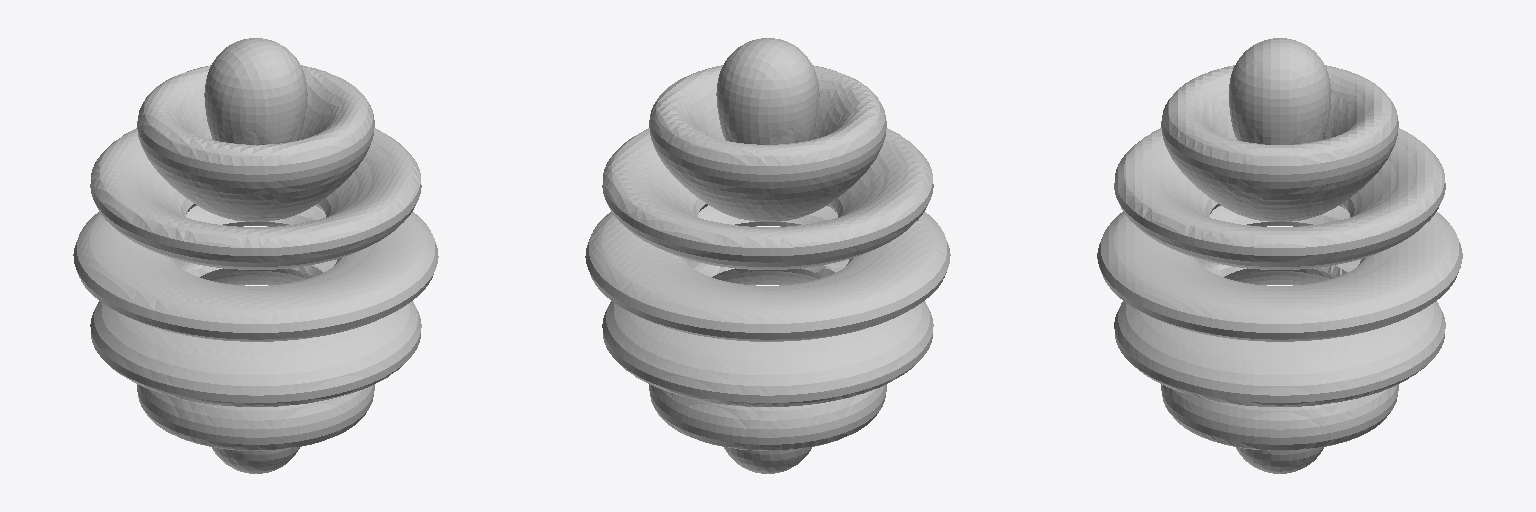
File: orb_n=7_ l=6 _m=0.obj
The picture shows the model from 3 angles: view 1: azimuth 30°, elevation 25°; view 2: azimuth 150°, elevation 25°; view 3: azimuth 270°, elevation 25°; orthographic projection.
Visible parts, largest first — view 1: orb_n=7__l=6__m=0; view 2: orb_n=7__l=6__m=0; view 3: orb_n=7__l=6__m=0.
Part boxes in pixels (x1,y1,x2,y2): orb_n=7__l=6__m=0: (73,38,438,473); orb_n=7__l=6__m=0: (585,38,950,473); orb_n=7__l=6__m=0: (1097,38,1462,473).
Bounding box in the file's own units: 143 × 184 × 143.